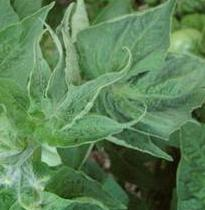Tomato leaf mosaic virus: (75, 0, 187, 94), (52, 51, 132, 134), (0, 4, 58, 118), (41, 108, 145, 150)
